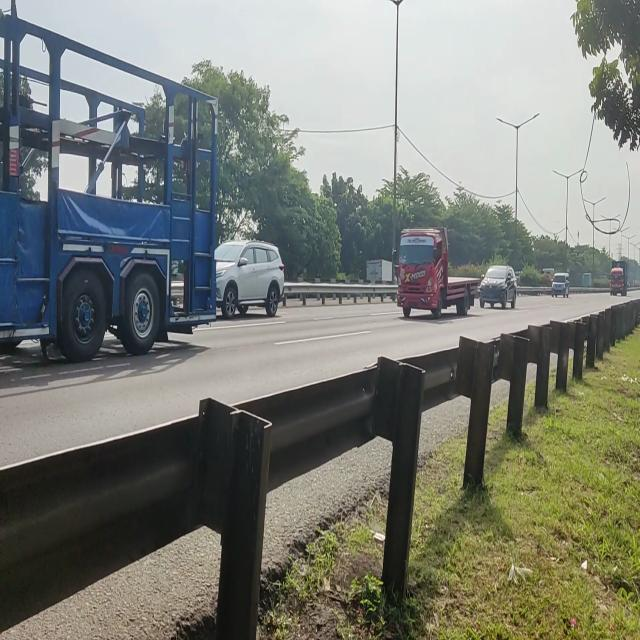Golongan I: (209, 233, 286, 329)
Golongan II: (394, 221, 480, 333)
